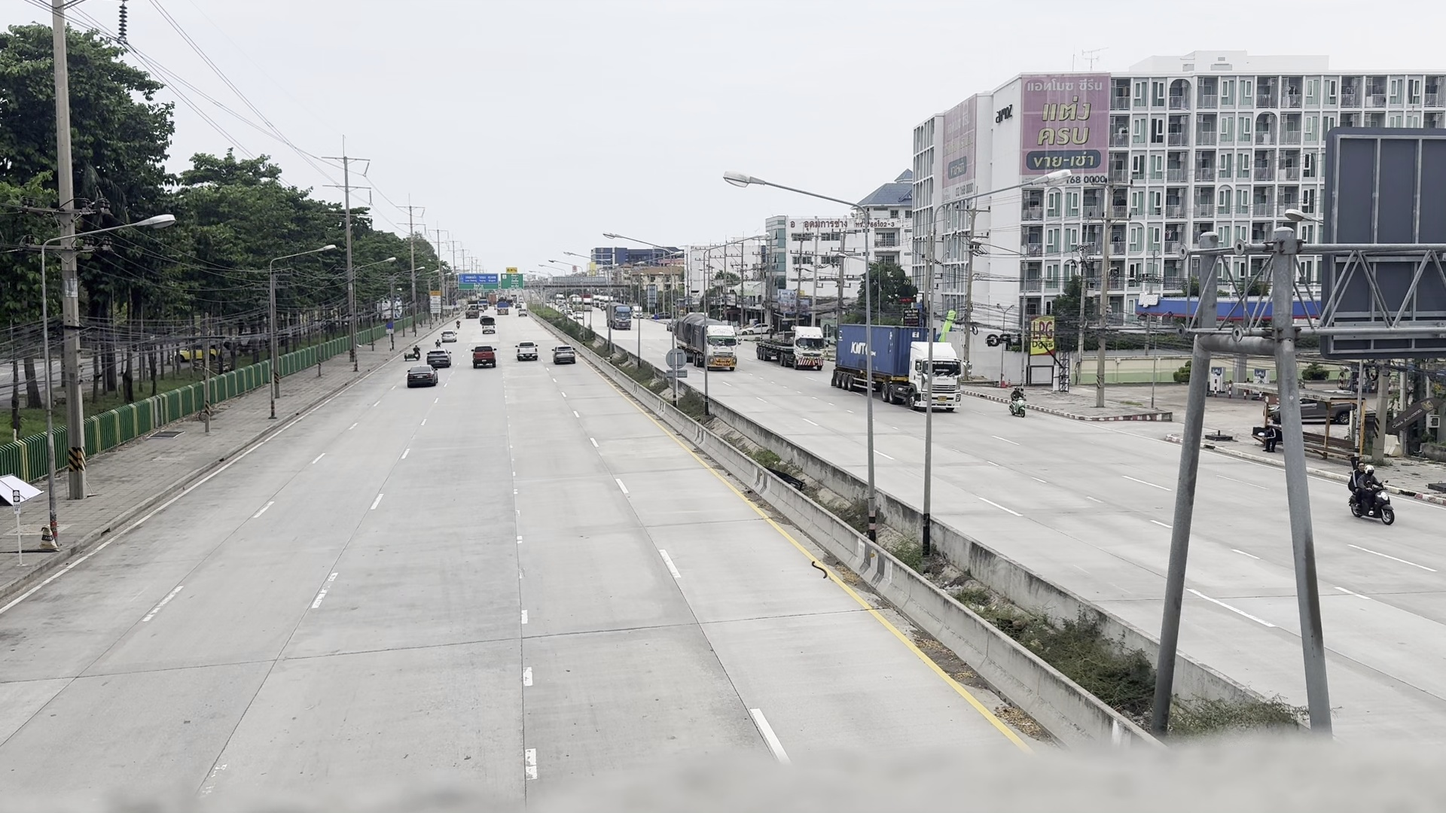car: (405, 365, 440, 388), (471, 339, 496, 368), (428, 342, 451, 368)
motorbike: (1345, 452, 1397, 525)
truck: (830, 324, 963, 412), (667, 314, 713, 368), (700, 319, 739, 372), (705, 340, 738, 373)
